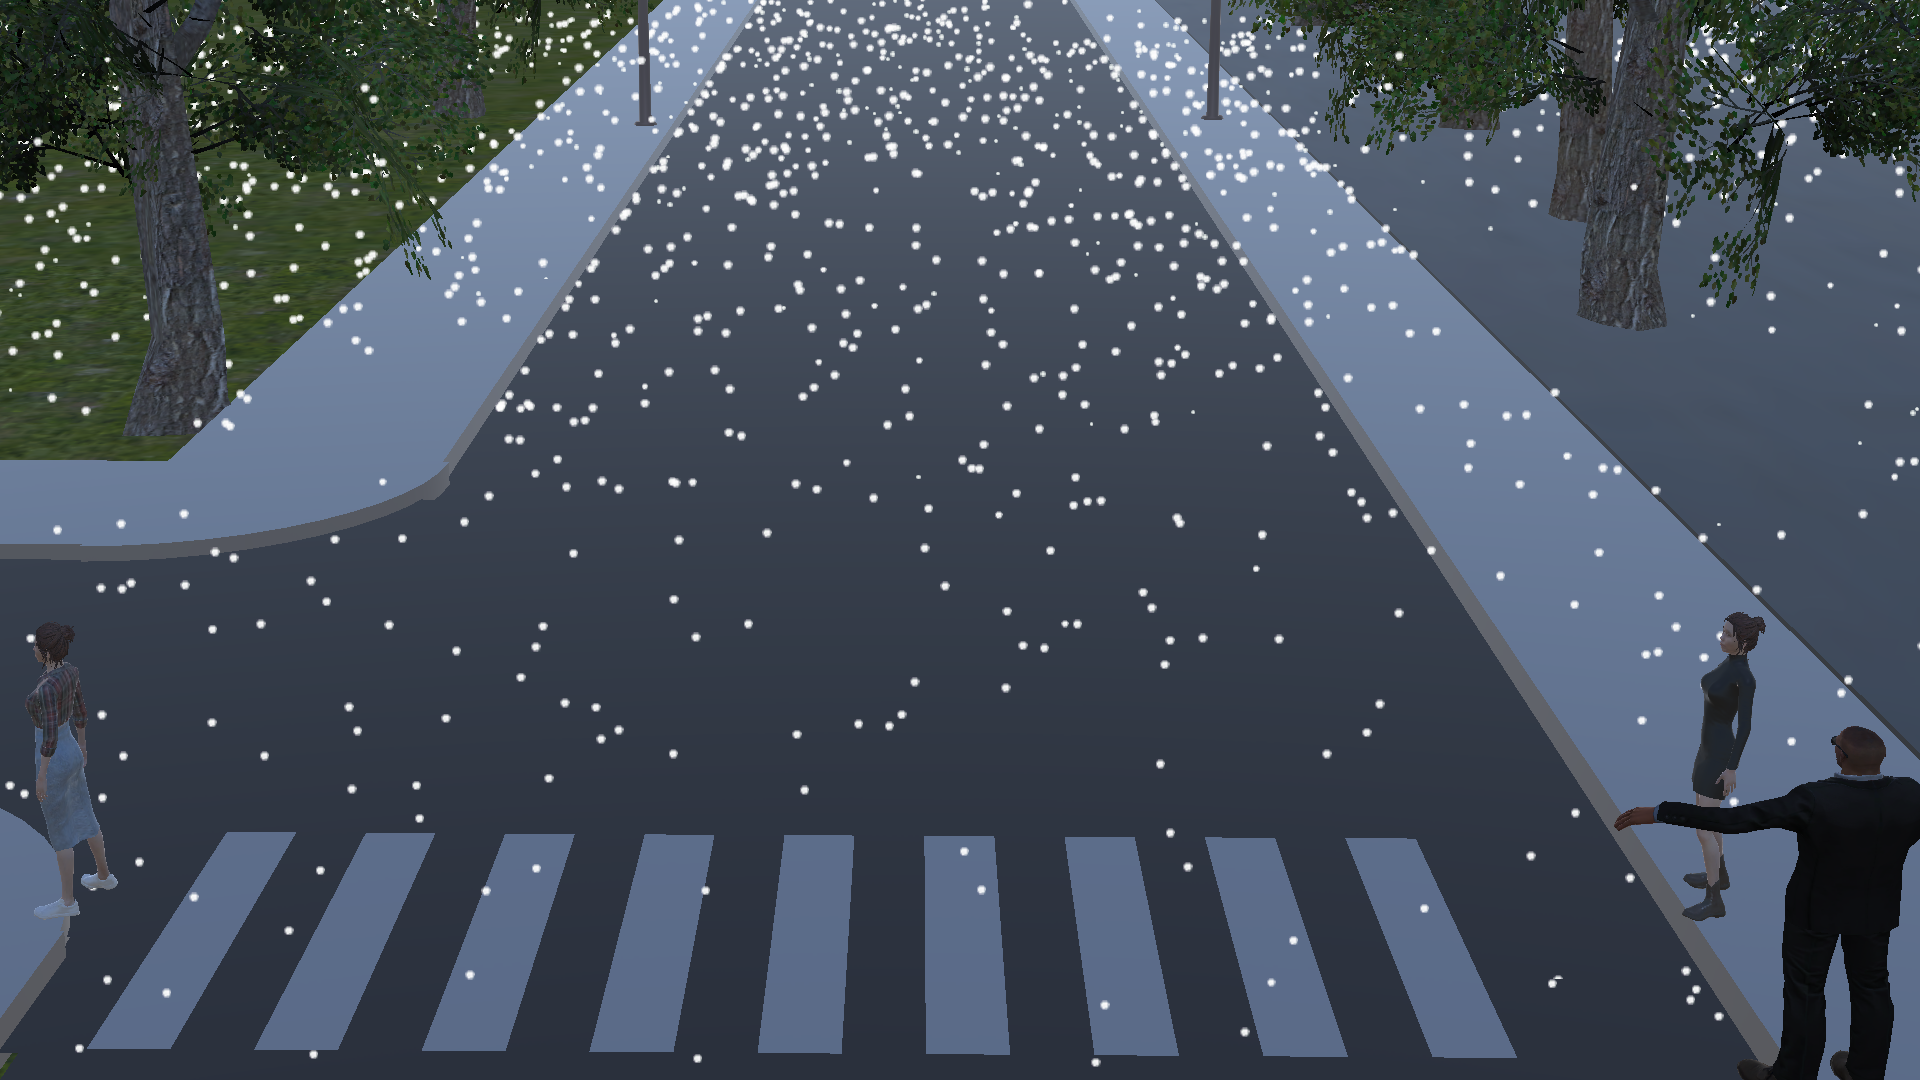pedestrian: (1755, 710, 1898, 1080), (3, 621, 149, 946), (1681, 574, 1767, 944)
